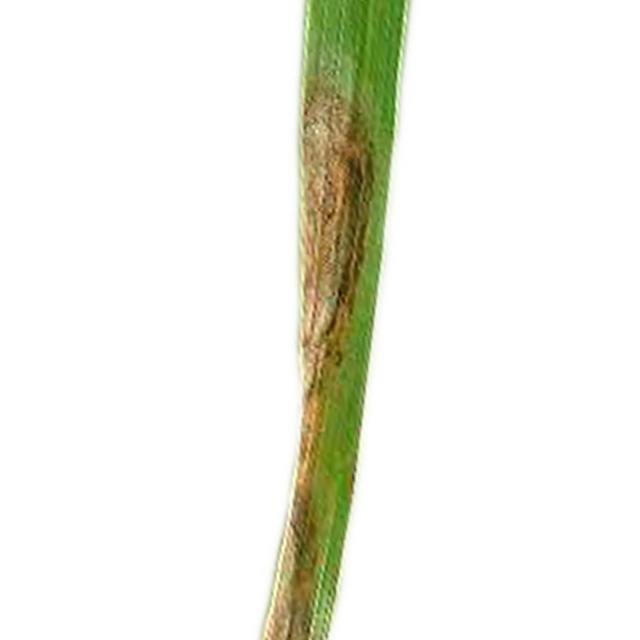Leaf scald: (149, 0, 466, 640)
